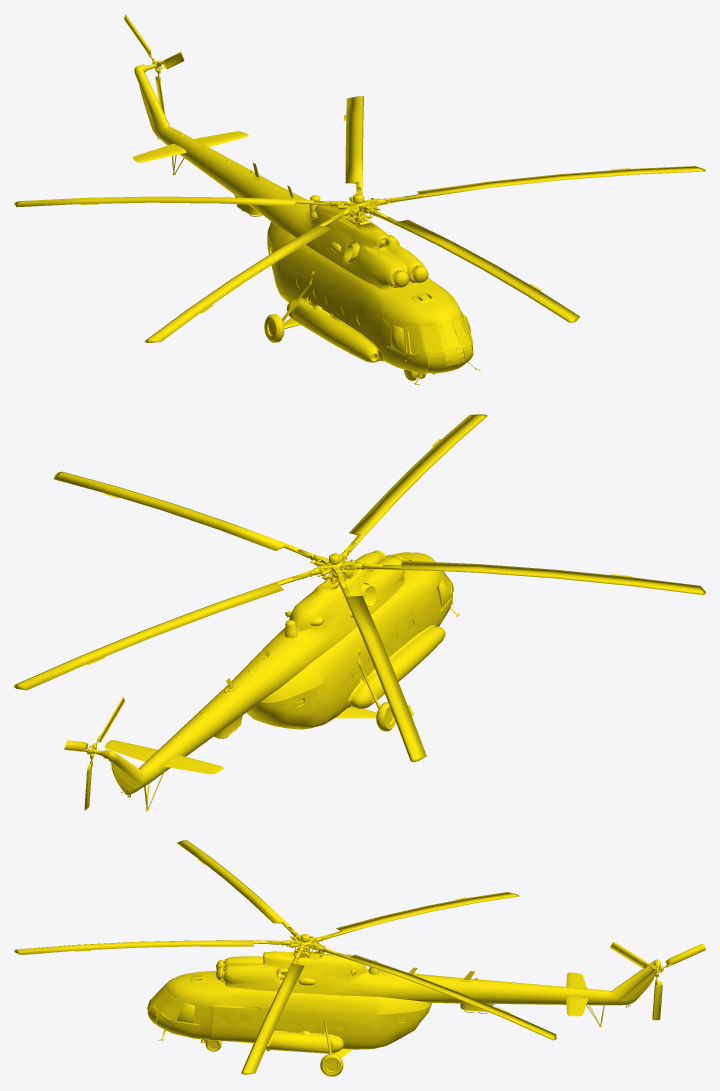
File: a96fad3f_animated_basic.glb
3 renders of one model, top to bottom at view 1: azimuth 30°, elevation 25°; view 2: azimuth 150°, elevation 25°; view 3: azimuth 270°, elevation 25°, orthographic. The views are drawn at different scales.
Parts seen in each view (by area): view 1: mi8_Material #2460_0, lopocty_Material #1469_0, mi8_Material #2419_0, mi8_Material #1468_0, lopocty_Material #1470_0, zad.vint_Material #1473_0; view 2: mi8_Material #2460_0, lopocty_Material #1469_0, lopocty_Material #1470_0, mi8_Material #1468_0, zad.vint_Material #1473_0; view 3: mi8_Material #2460_0, lopocty_Material #1469_0, mi8_Material #2419_0, zad.vint_Material #1473_0, mi8_Material #1468_0, lopocty_Material #1470_0, dver_Material #2460_0.
Boxes of the visible parts, bbox=[...] form: mi8_Material #2460_0: bbox=[132, 64, 477, 384]; lopocty_Material #1469_0: bbox=[14, 96, 705, 342]; mi8_Material #2419_0: bbox=[296, 276, 472, 372]; mi8_Material #1468_0: bbox=[156, 135, 480, 385]; lopocty_Material #1470_0: bbox=[314, 187, 404, 222]; zad.vint_Material #1473_0: bbox=[124, 14, 184, 114]; mi8_Material #2460_0: bbox=[93, 550, 459, 811]; lopocty_Material #1469_0: bbox=[14, 414, 705, 762]; lopocty_Material #1470_0: bbox=[292, 542, 382, 587]; mi8_Material #1468_0: bbox=[121, 576, 459, 797]; zad.vint_Material #1473_0: bbox=[64, 697, 124, 810]; mi8_Material #2460_0: bbox=[148, 951, 660, 1058]; lopocty_Material #1469_0: bbox=[14, 840, 556, 1074]; mi8_Material #2419_0: bbox=[147, 984, 345, 1029]; zad.vint_Material #1473_0: bbox=[610, 942, 705, 1020]; mi8_Material #1468_0: bbox=[158, 952, 640, 1076]; lopocty_Material #1470_0: bbox=[267, 927, 337, 957]; dver_Material #2460_0: bbox=[211, 1006, 235, 1041].
Size of the model in its own units: 22.31 by 5.12 by 27.87.
